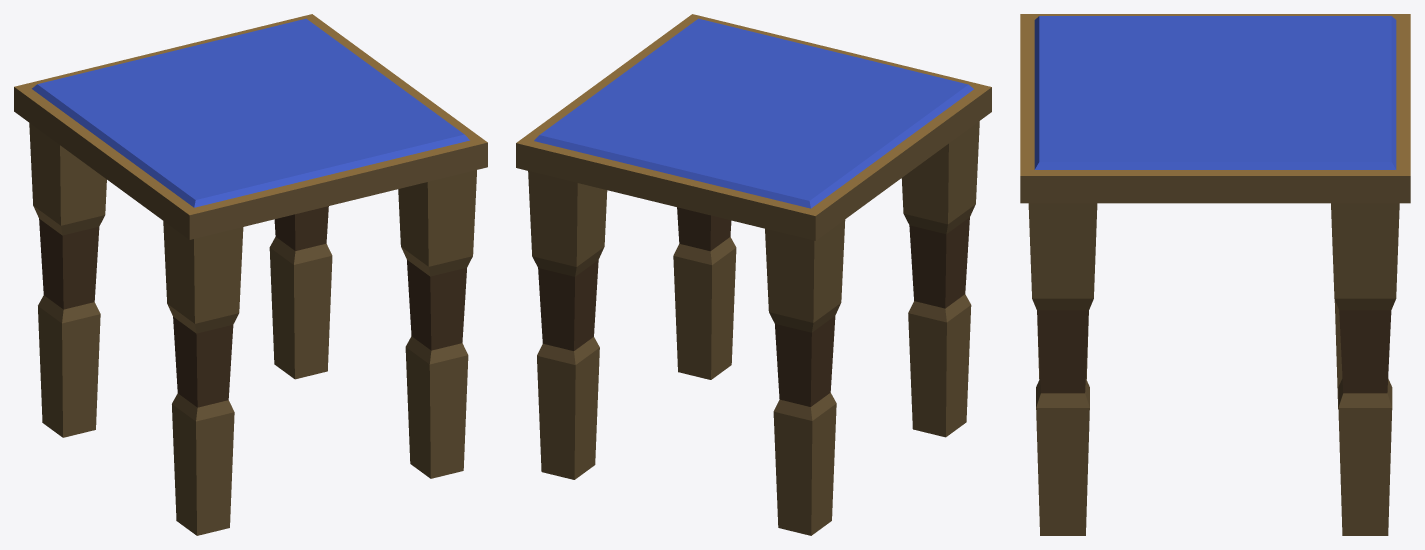
The model's file is chair2.fbx.
3 views of the same model, side by side, from view 1: azimuth 30°, elevation 25°; view 2: azimuth 150°, elevation 25°; view 3: azimuth 270°, elevation 25° (orthographic). The views are drawn at different scales.
Parts seen in each view (by area): view 1: Object067; view 2: Object067; view 3: Object067.
Boxes of the visible parts, <box> form: Object067: <box>14,14,487,535</box>; Object067: <box>516,14,991,535</box>; Object067: <box>1020,14,1410,535</box>.
Size of the model in its own units: 20.02 by 21.58 by 20.41.
